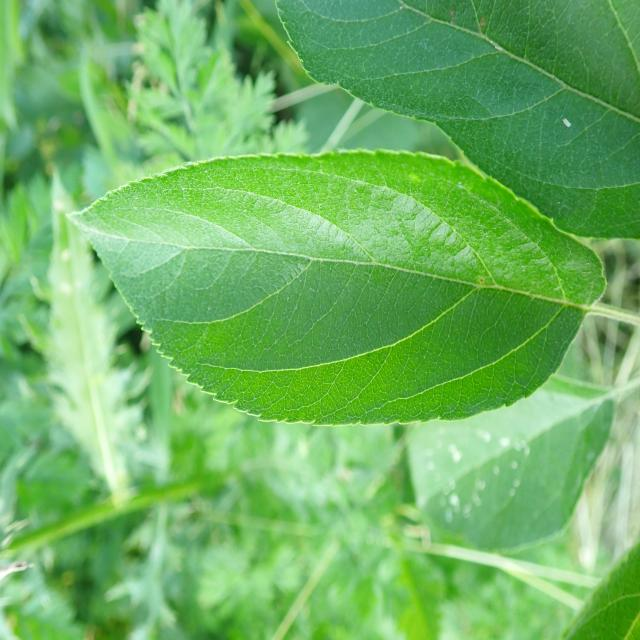healthy: (66, 149, 606, 428), (274, 0, 640, 241), (405, 375, 616, 556)
